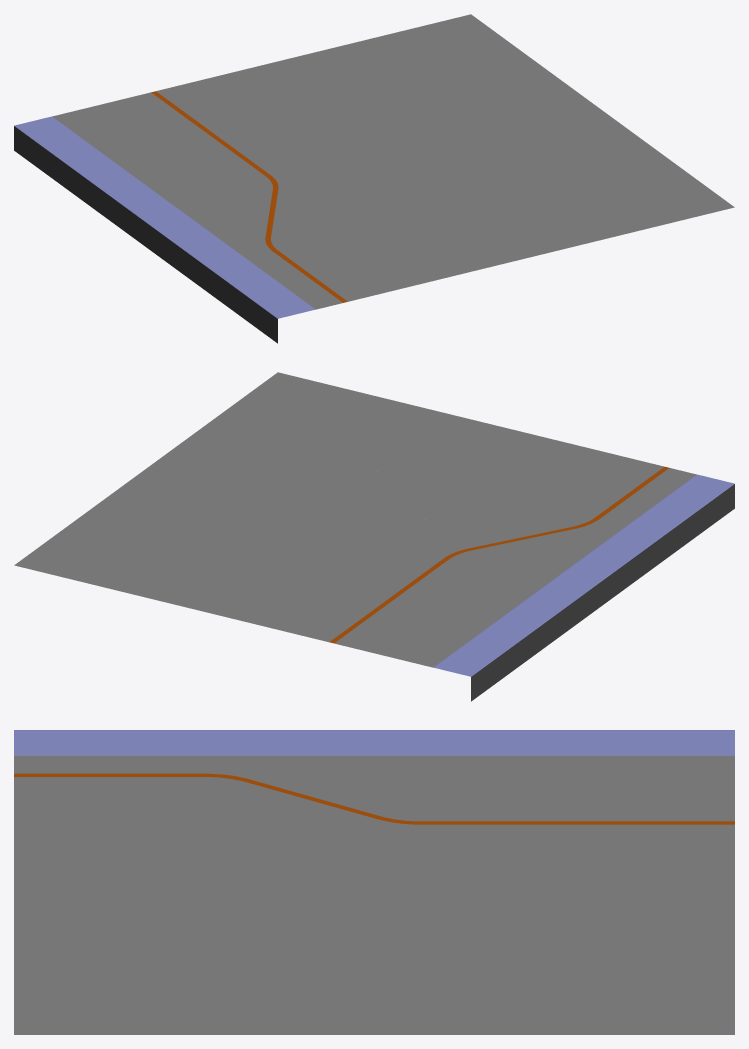
The model's file is W_M_maze_003_4x4_Bottom_a_L0.fbx.
The picture shows the model from 3 angles, top to bottom: view 1: azimuth 30°, elevation 25°; view 2: azimuth 150°, elevation 25°; view 3: azimuth 270°, elevation 25°; orthographic projection. The views are drawn at different scales.
Parts seen in each view (by area): view 1: W_M_maze_003_4x4_Bottom_a_L0; view 2: W_M_maze_003_4x4_Bottom_a_L0; view 3: W_M_maze_003_4x4_Bottom_a_L0.
Part boxes in pixels (x1,y1,x2,y2): W_M_maze_003_4x4_Bottom_a_L0: (14, 14, 734, 343); W_M_maze_003_4x4_Bottom_a_L0: (14, 372, 734, 701); W_M_maze_003_4x4_Bottom_a_L0: (14, 730, 734, 1034).
Size of the model in its own units: 4 by 0.2081 by 4.
